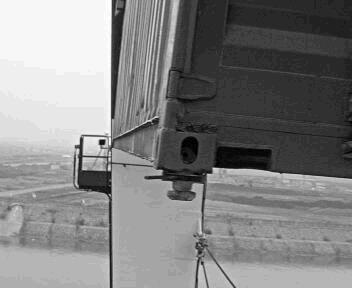twist_lock_1: (157, 165, 213, 204)
